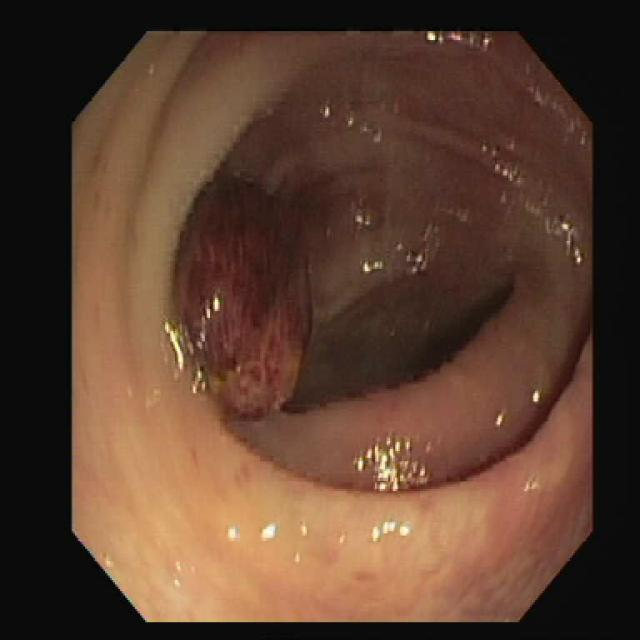tumor: (173, 169, 308, 418)
